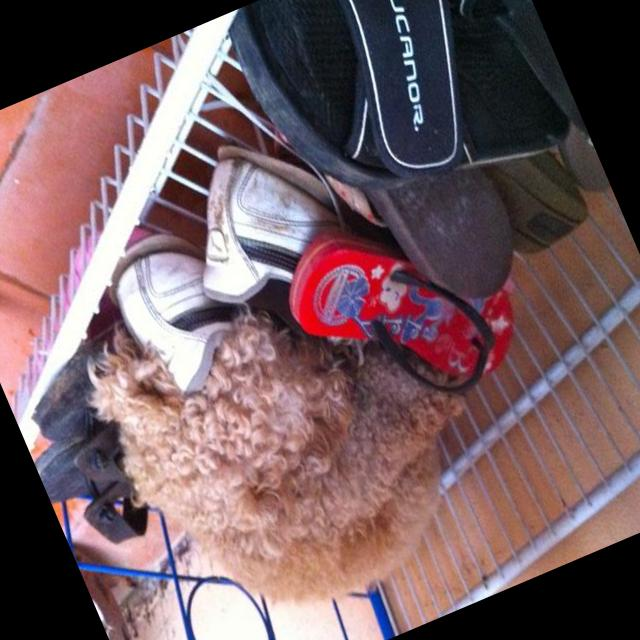dog: (73, 222, 521, 640)
